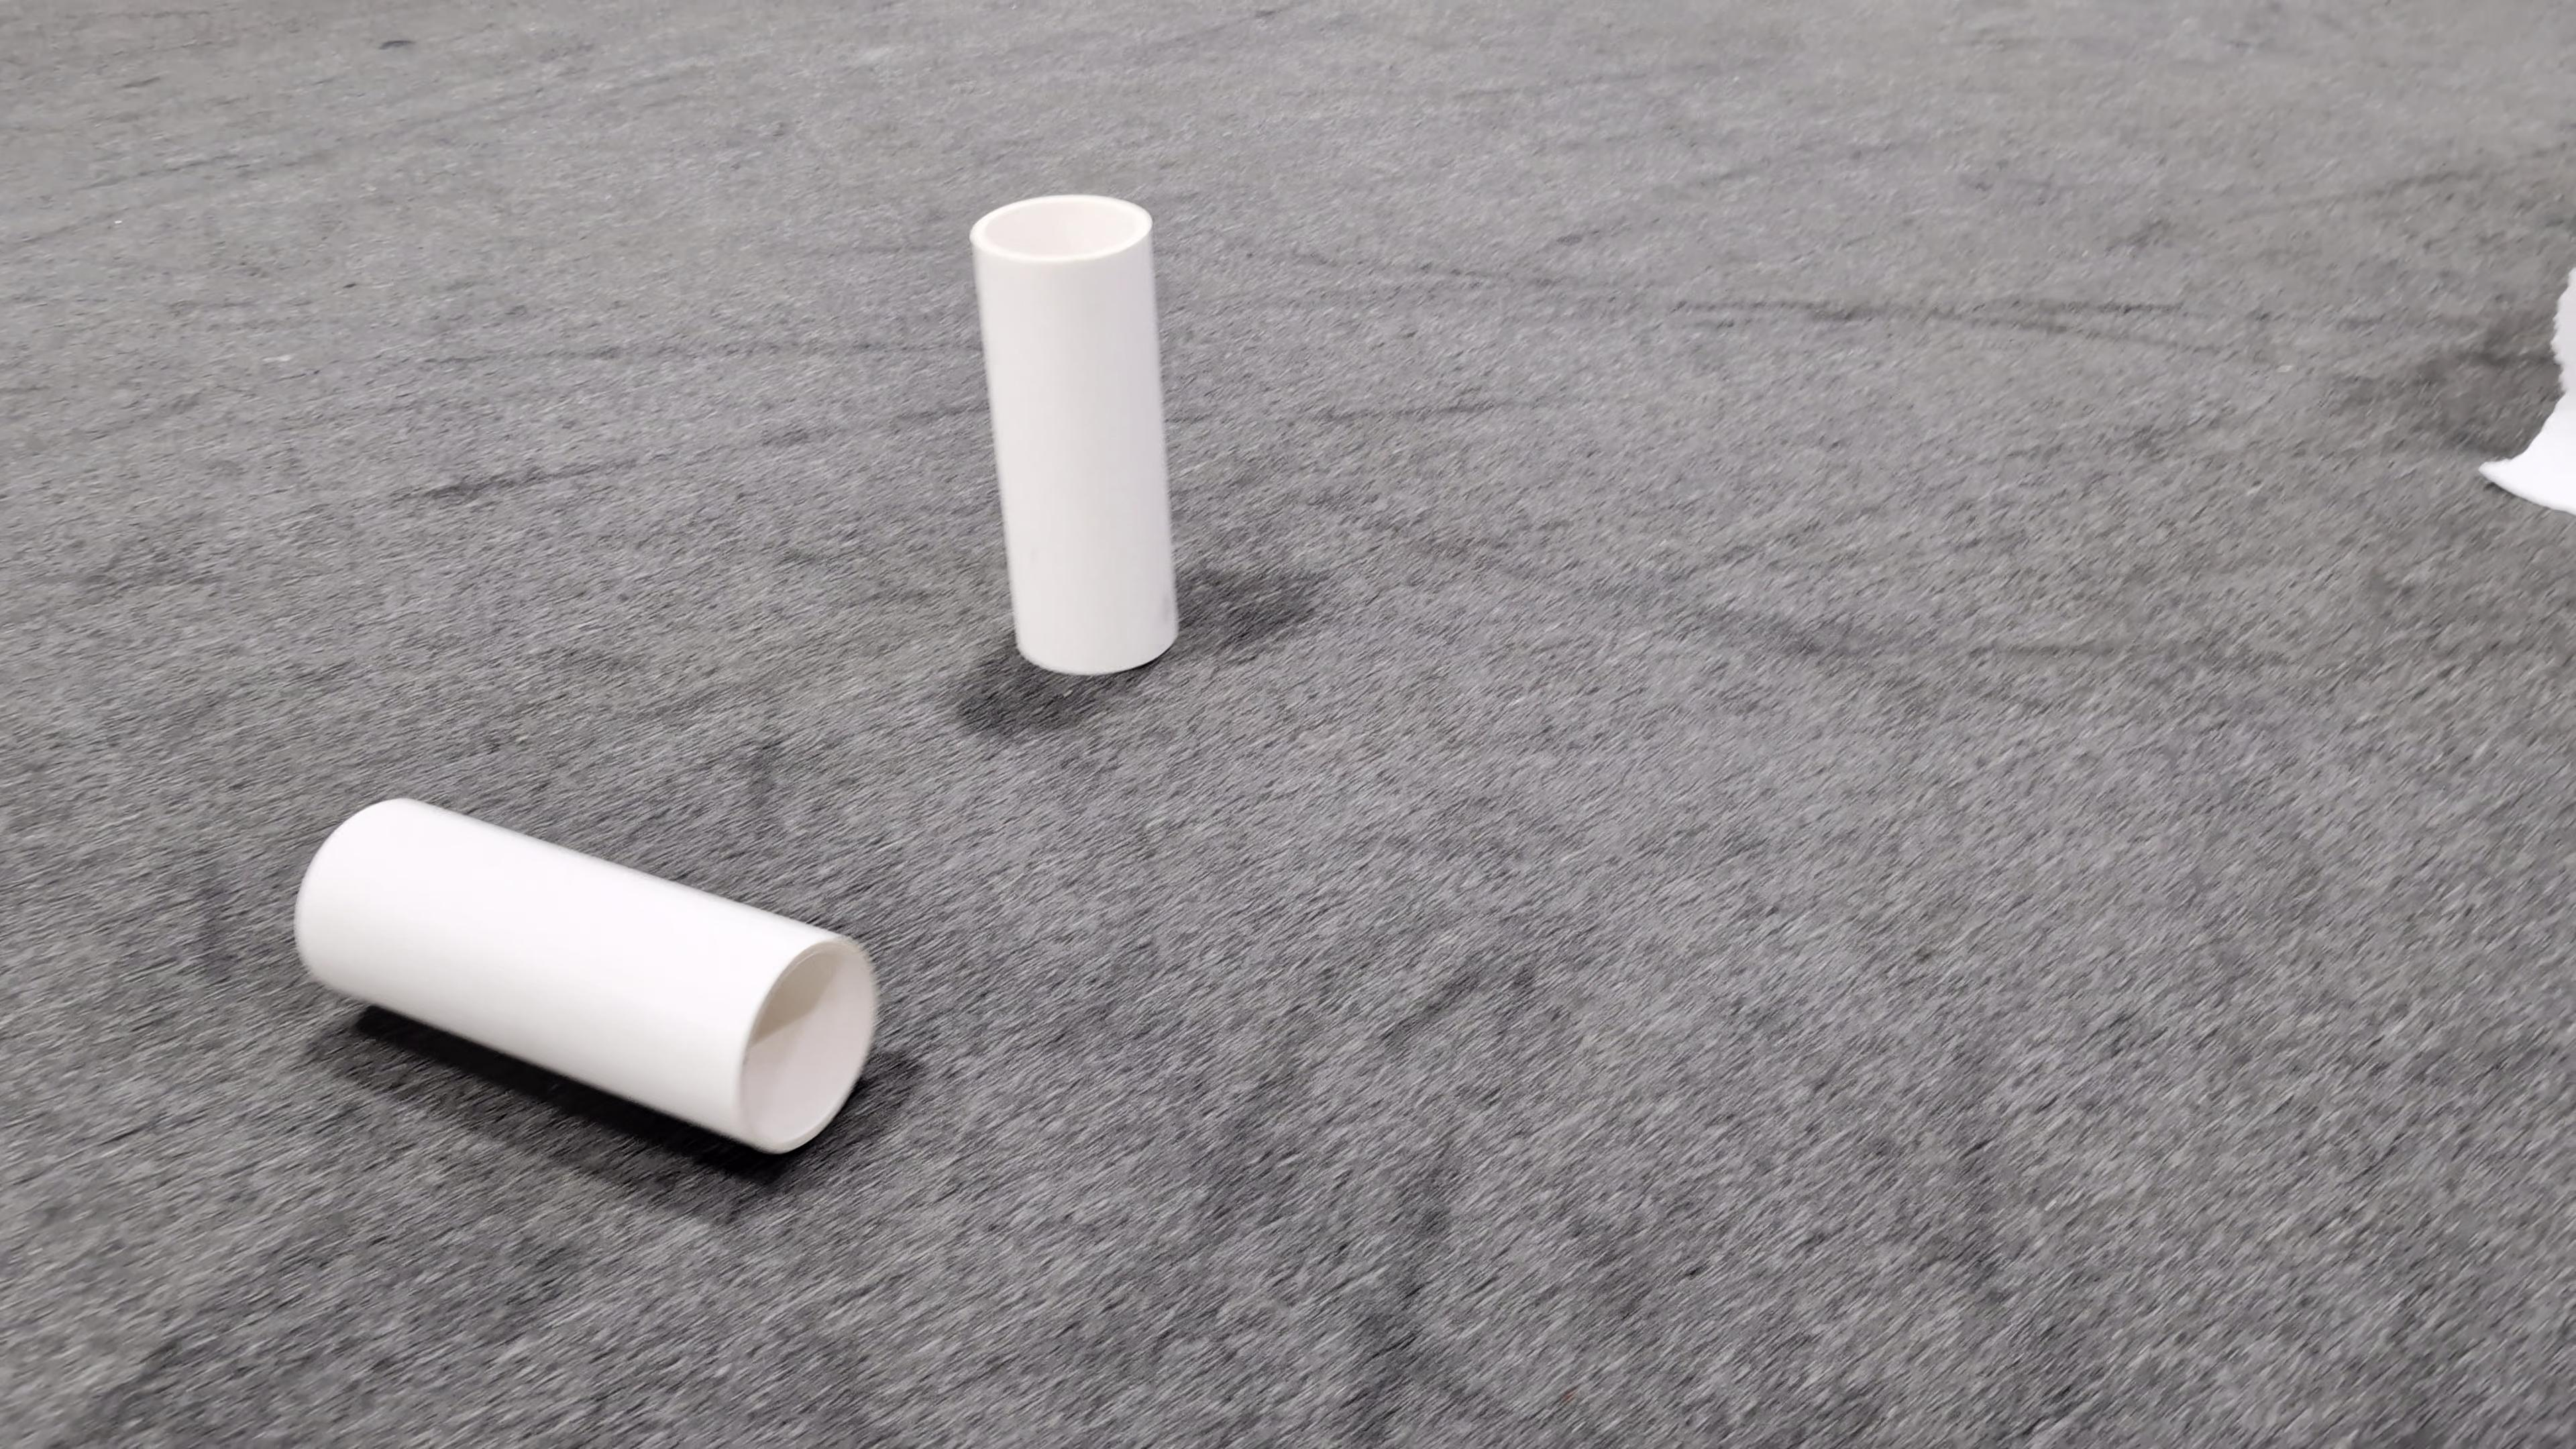coral: (299, 796, 878, 1154), (971, 193, 1180, 672)
